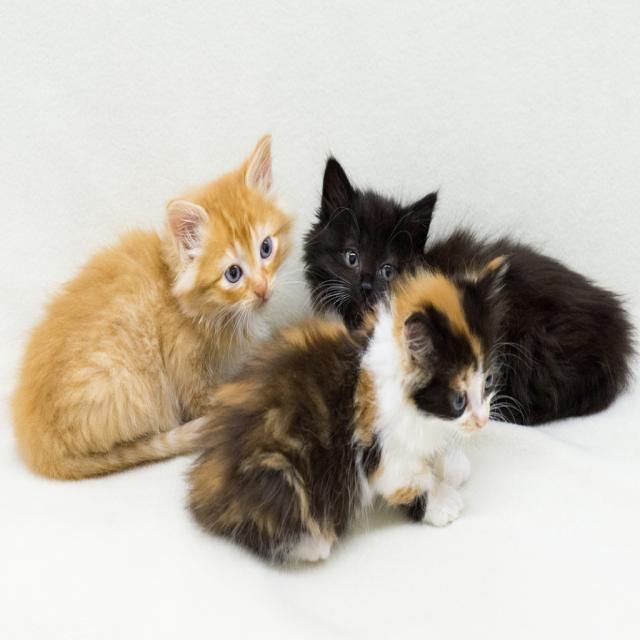Cat: (176, 244, 532, 566), (2, 126, 300, 484), (296, 141, 639, 432)
